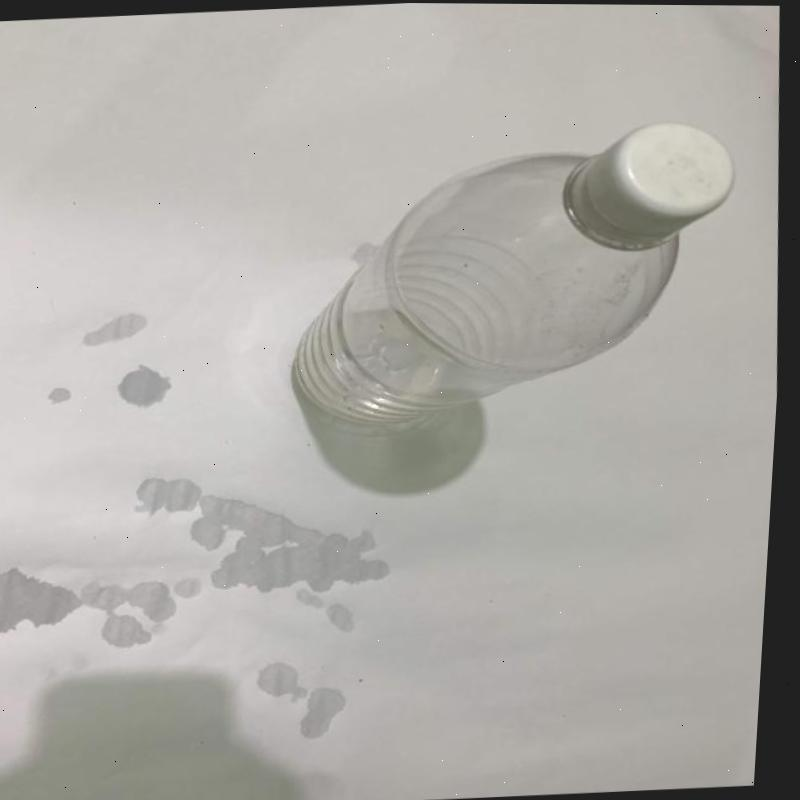botella: (282, 118, 752, 443)
